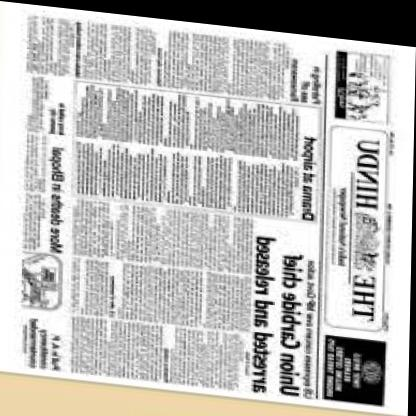Paper: (0, 0, 408, 410)
